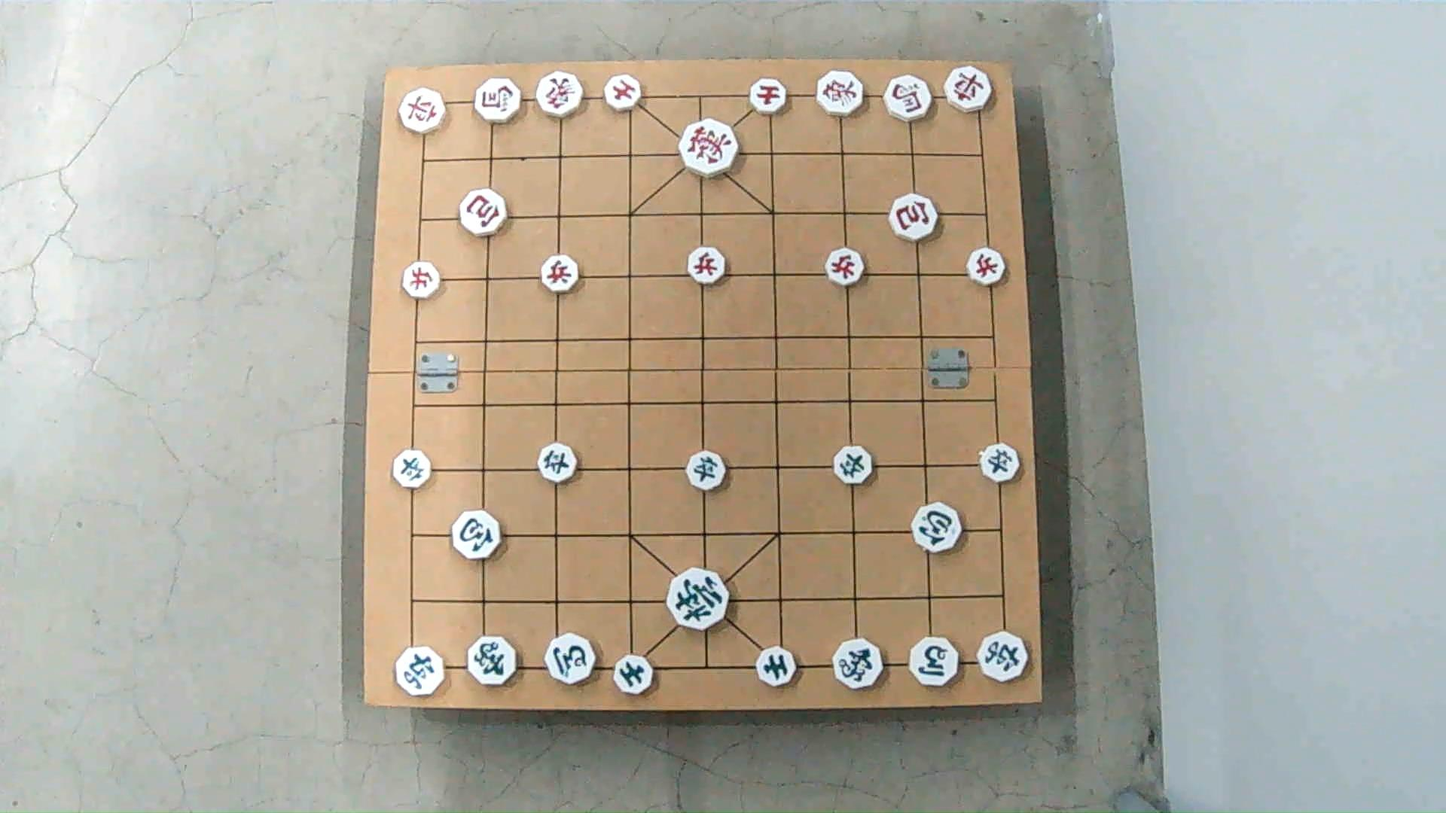cha_green: (977, 633, 1030, 681), (396, 650, 450, 696)
cha_red: (945, 69, 997, 112), (395, 90, 446, 131)
jol_green: (833, 448, 878, 484), (977, 447, 1023, 482), (685, 453, 729, 489), (537, 446, 579, 483), (394, 452, 435, 486)
jol_red: (538, 254, 580, 292), (965, 248, 1008, 285), (823, 248, 866, 285), (688, 249, 730, 285), (401, 264, 444, 297)
ma_green: (545, 635, 598, 684), (906, 641, 961, 687)
ma_red: (883, 78, 936, 120), (471, 80, 521, 121)
po_green: (912, 503, 965, 552), (453, 514, 507, 559)
po_red: (460, 193, 510, 236), (891, 199, 942, 241)
sa_green: (757, 649, 799, 687), (612, 657, 654, 695)
sa_red: (603, 78, 645, 108), (749, 81, 789, 112)
sang_green: (831, 637, 884, 690), (464, 639, 518, 687)
sang_red: (535, 74, 586, 117), (815, 74, 866, 116)
wang_green: (667, 572, 733, 628)
wang_red: (681, 123, 740, 175)
